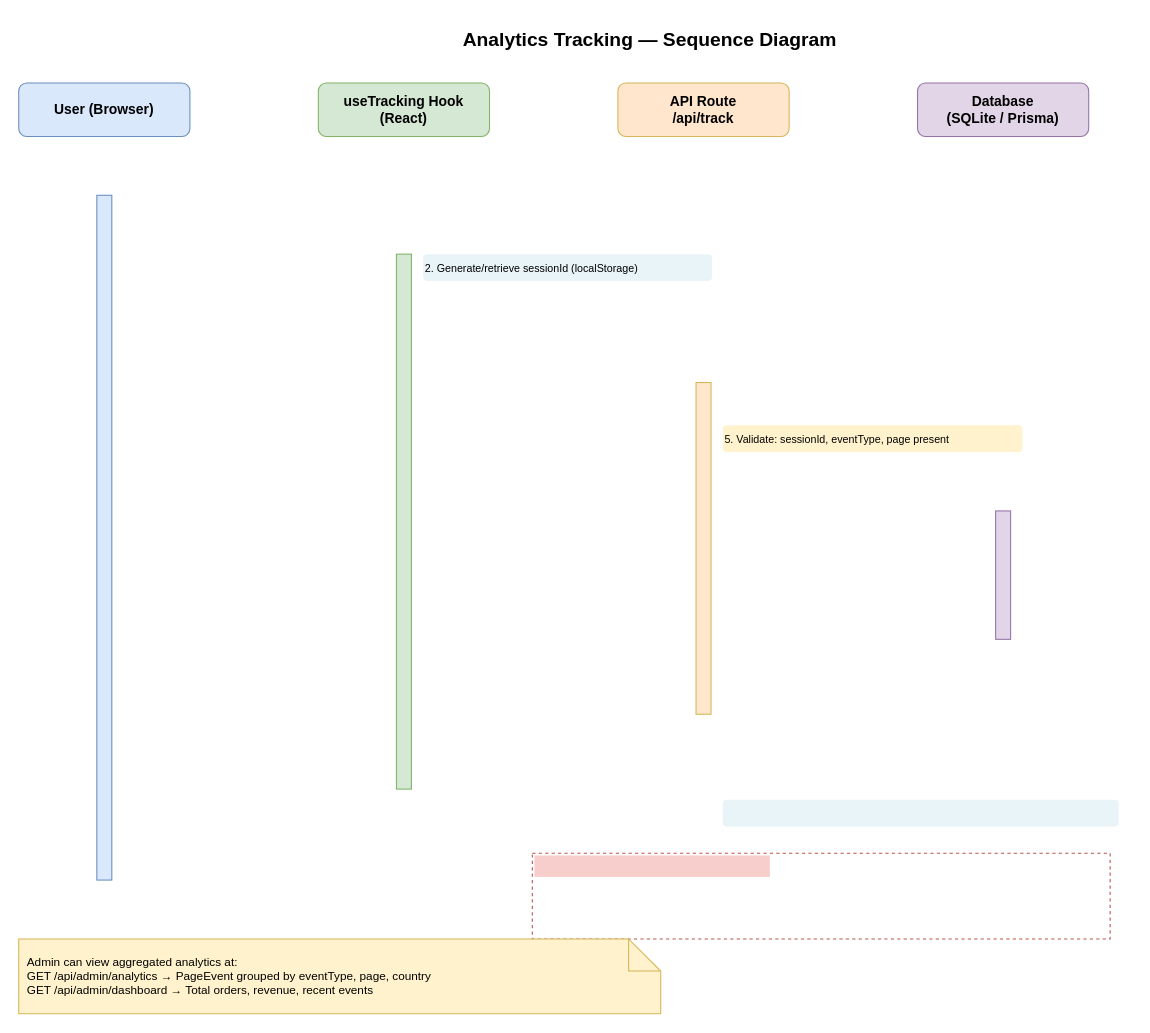
The diagram is 1150 pixels wide and 1033 high, and some of its shapes have lost their labels. Here are the shapes that lost their labels. From the top down, the centre of each, then its label:
(x=920, y=812): → Same DB write flow repeats for every tracked event
(x=651, y=865): alt [Missing required fields]
